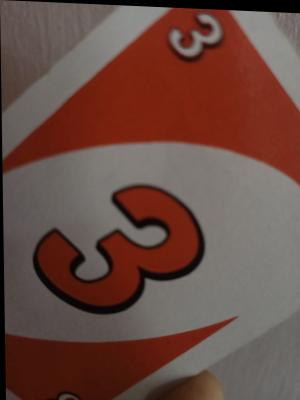num_3: (19, 171, 212, 327), (164, 6, 232, 66)
